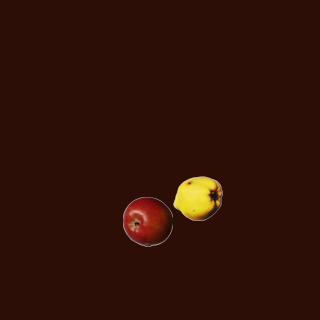Apple Braeburn: (122, 196, 172, 246)
Quince: (172, 173, 222, 223)
